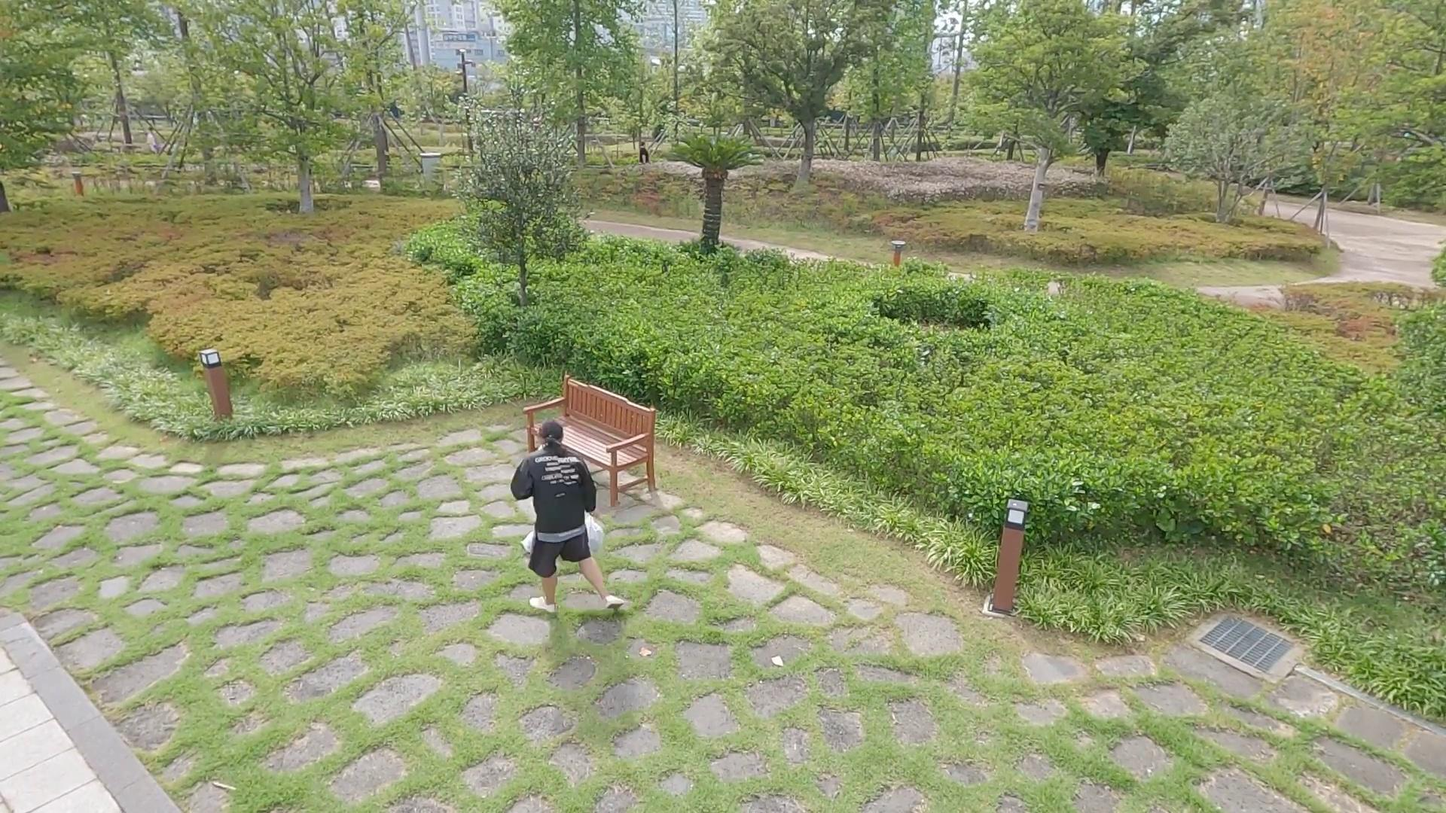person: (511, 416, 626, 613)
trash: (578, 507, 615, 557), (516, 525, 543, 561)
